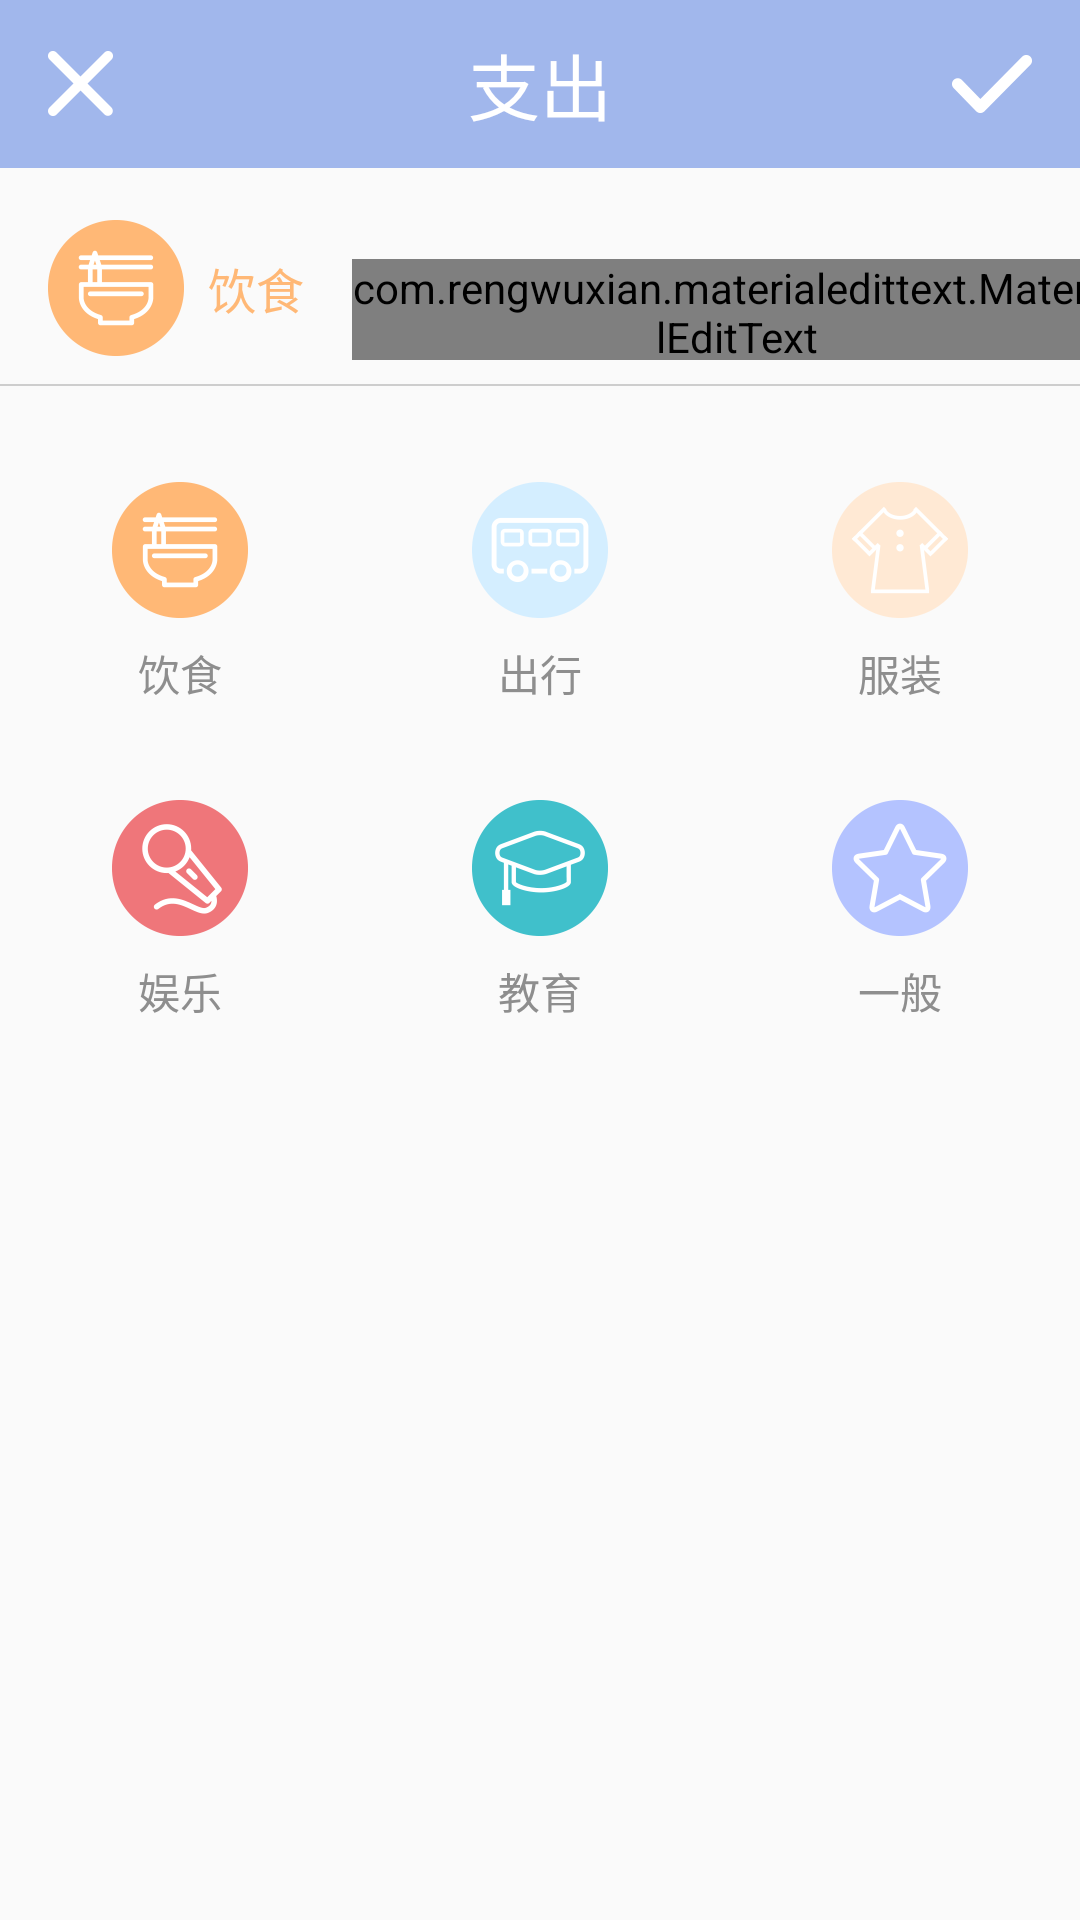

Named icons in this screenshot (1080×1920) and their bounding boxes, (x1, y1, x2, y2):
clear: (48, 51, 113, 116)
done: (952, 55, 1032, 113)
